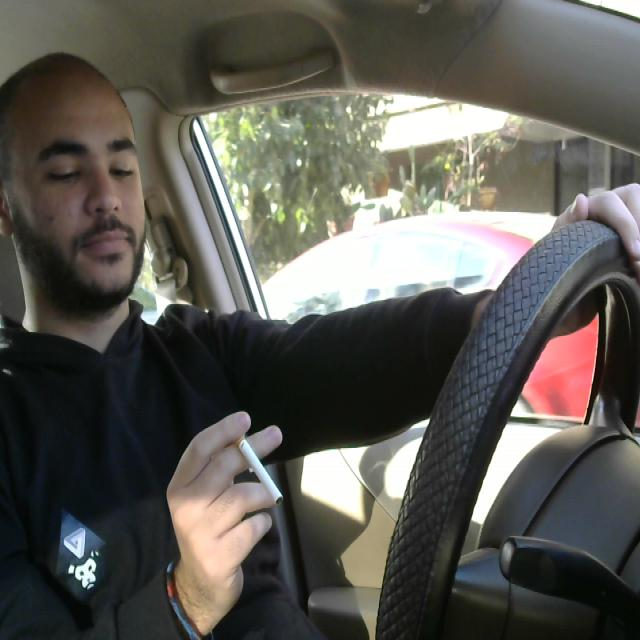smoking: (224, 408, 287, 517)
